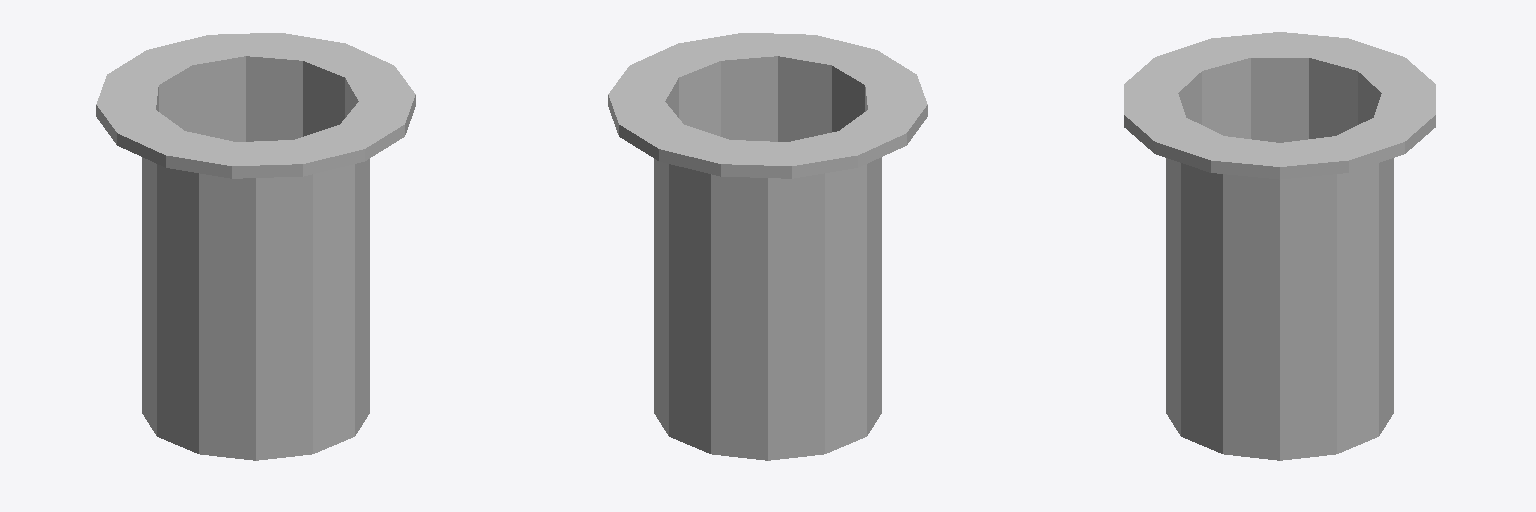
File: 62. Втулка рычага управления.obj
3 renders of one model, left to right at view 1: azimuth 30°, elevation 25°; view 2: azimuth 150°, elevation 25°; view 3: azimuth 270°, elevation 25°, orthographic.
Parts seen in each view (by area): view 1: Твердое тело1; view 2: Твердое тело1; view 3: Твердое тело1.
Boxes of the visible parts, box(x1,y1,x2,y2) form: Твердое тело1: box(96, 33, 415, 460); Твердое тело1: box(608, 33, 927, 460); Твердое тело1: box(1124, 32, 1435, 460).
Size of the model in its own units: 28 by 30.2 by 27.3.